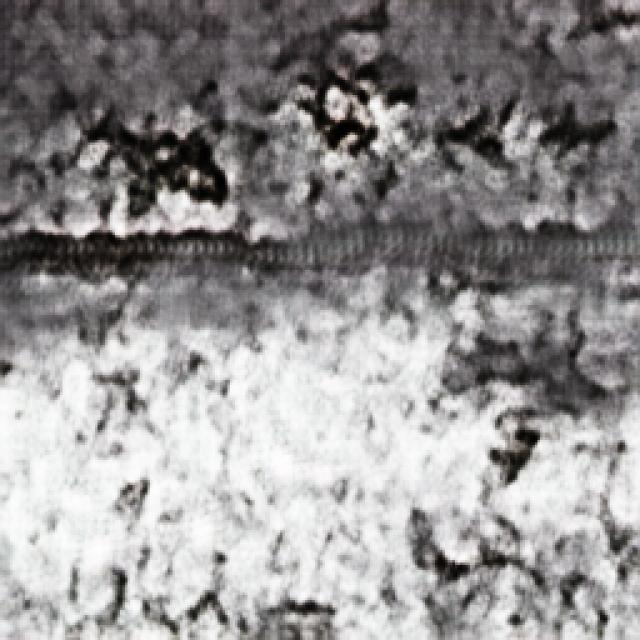Dry Waste: (18, 45, 548, 532)
